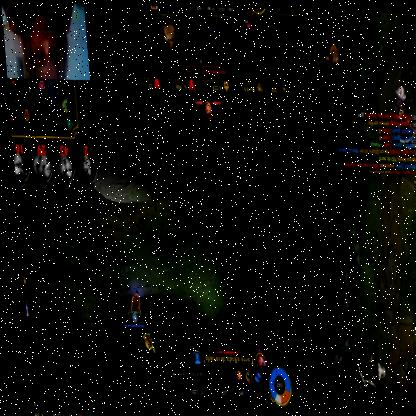streamer: (0, 0, 82, 80)
